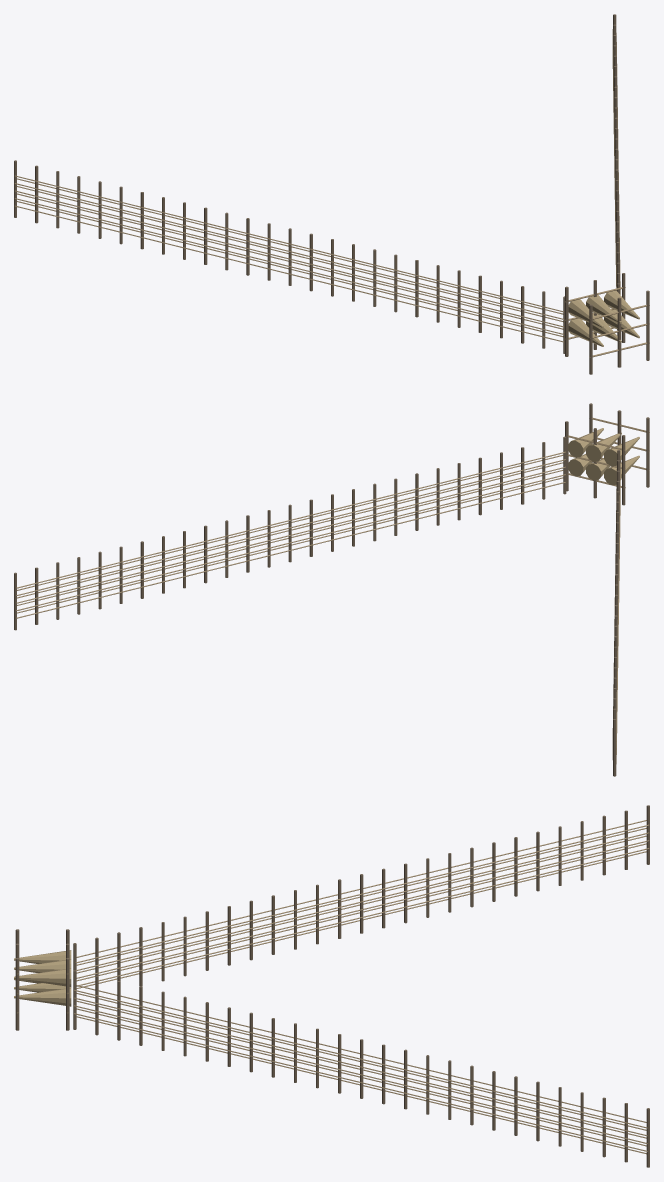
Rendered from fish-weir.glb.
3 renders of one model, top to bottom at view 1: azimuth 30°, elevation 25°; view 2: azimuth 150°, elevation 25°; view 3: azimuth 270°, elevation 25°, orthographic. The views are drawn at different scales.
Parts seen in each view (by area): view 1: weir-withy, weir-stake, weir-putcher; view 2: weir-withy, weir-stake, weir-putcher; view 3: weir-withy, weir-stake, weir-putcher.
Boxes of the visible parts, <box> form: weir-withy: <box>14,29,649,357</box>; weir-stake: <box>14,14,649,374</box>; weir-putcher: <box>568,290,639,346</box>; weir-withy: <box>16,417,649,763</box>; weir-stake: <box>14,403,649,776</box>; weir-putcher: <box>568,428,639,485</box>; weir-withy: <box>16,820,649,1154</box>; weir-stake: <box>15,805,649,1167</box>; weir-putcher: <box>14,950,71,1006</box>.
Bounding box in the file's own units: 20.1 × 2.2 × 17.74.
